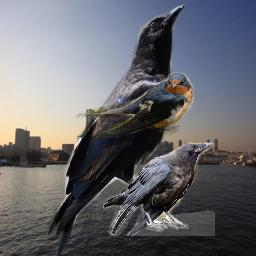Crow: (46, 3, 185, 255), (103, 142, 215, 236)
Swallow: (76, 72, 194, 138)
